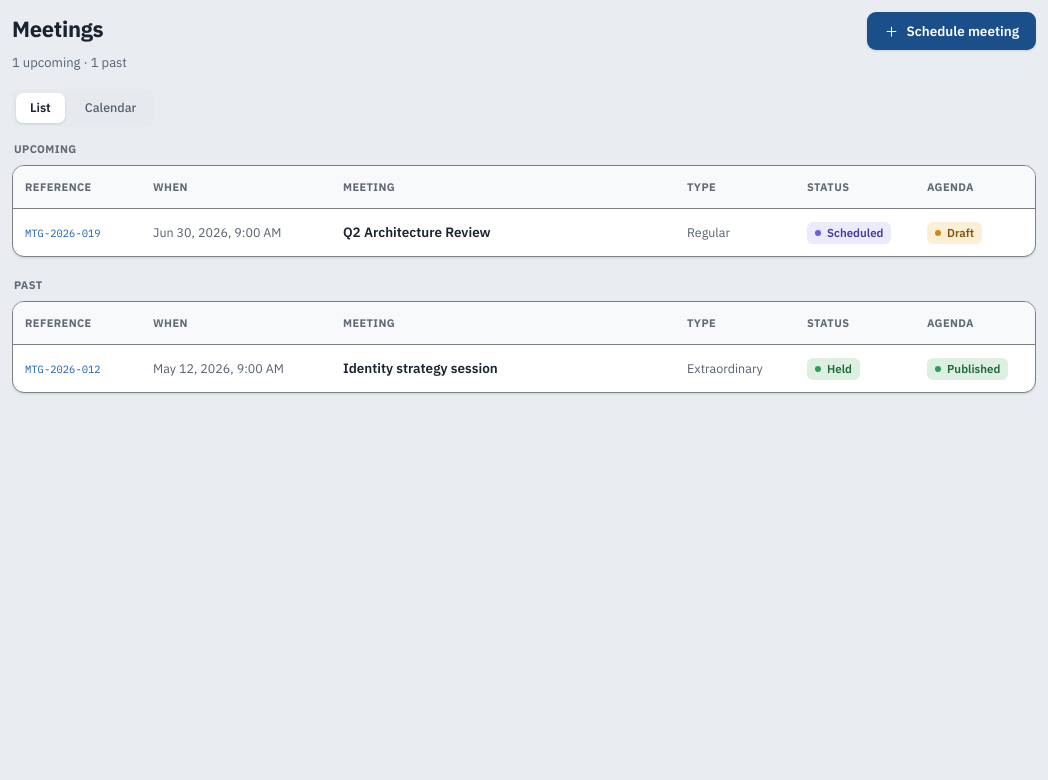
Test: MeetingsList (P6c) › toggles between the list tables and the calendar view
Expected: the table that starts with "Reference" is shown, [13,166,1035,256]
Click the button "Calendar": (111, 108) [71,92,150,122]
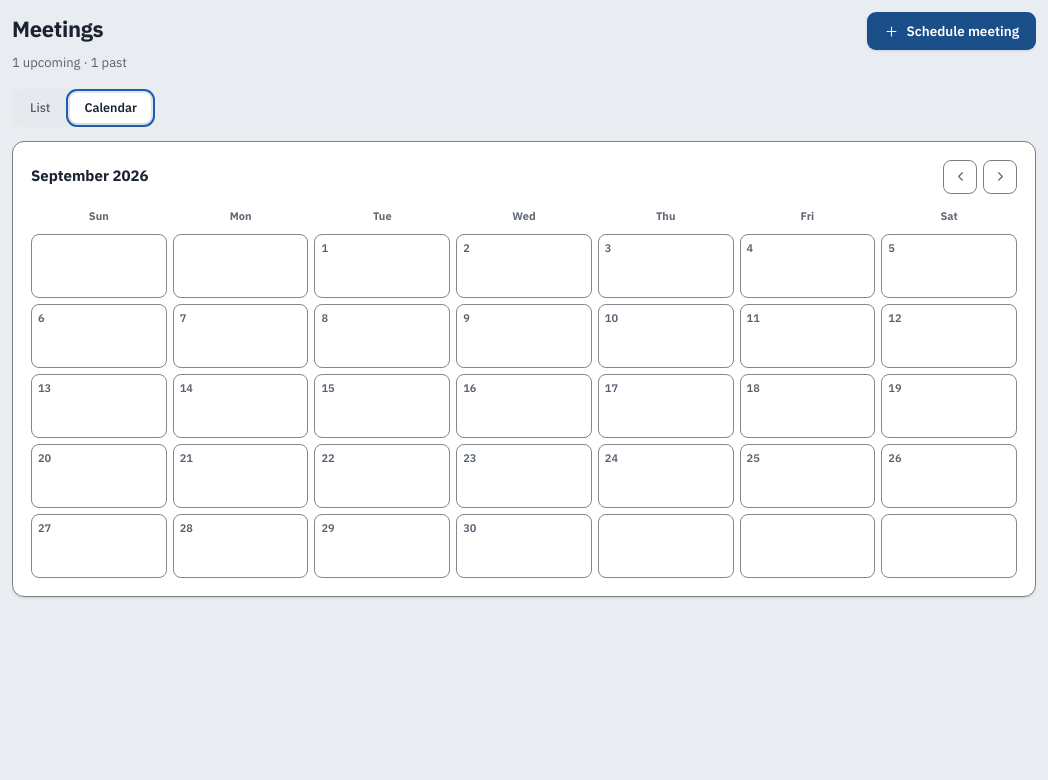
Now the table is gone
Now the button named "next month" is shown, box [983,160,1017,194]
Click the button "List": (40, 108) [16,92,64,122]
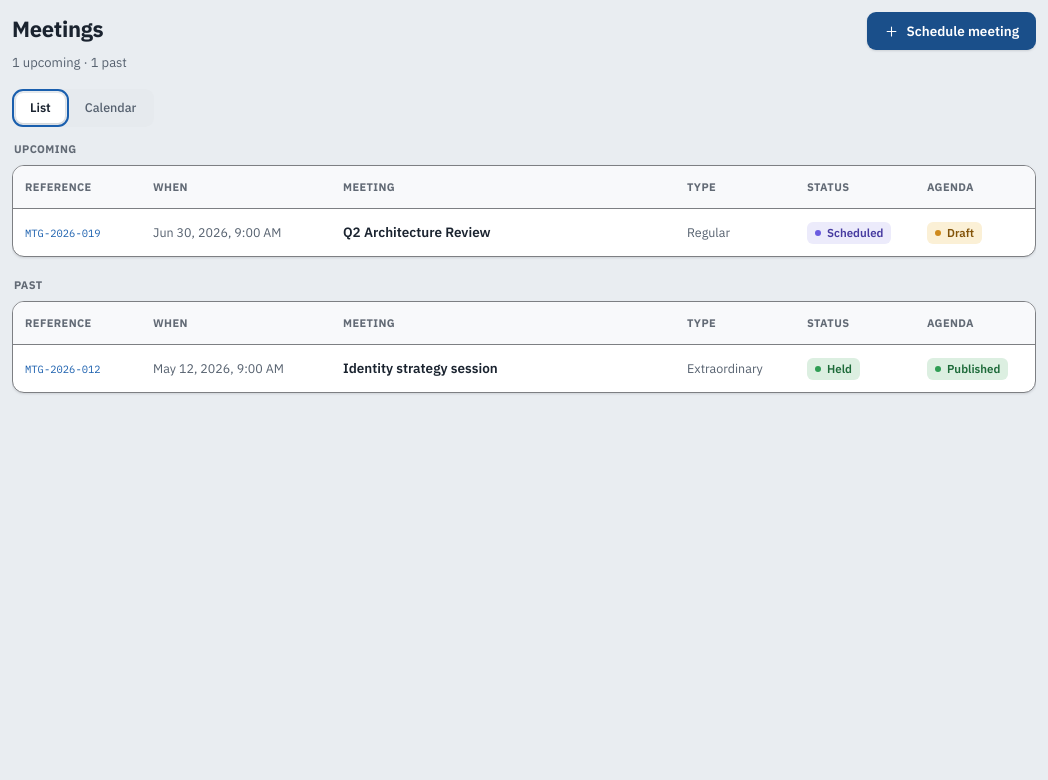
Now the table that starts with "Reference" is shown, box [13,166,1035,256]
